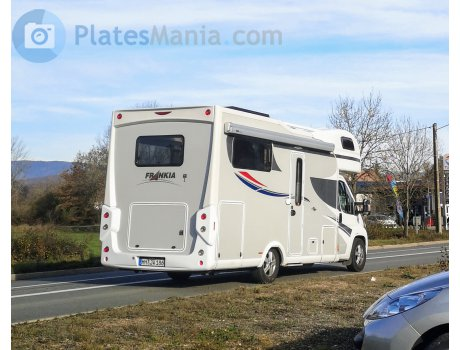License Plates: (140, 258, 162, 263)
